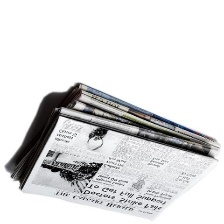news_paper: (5, 80, 219, 224)
